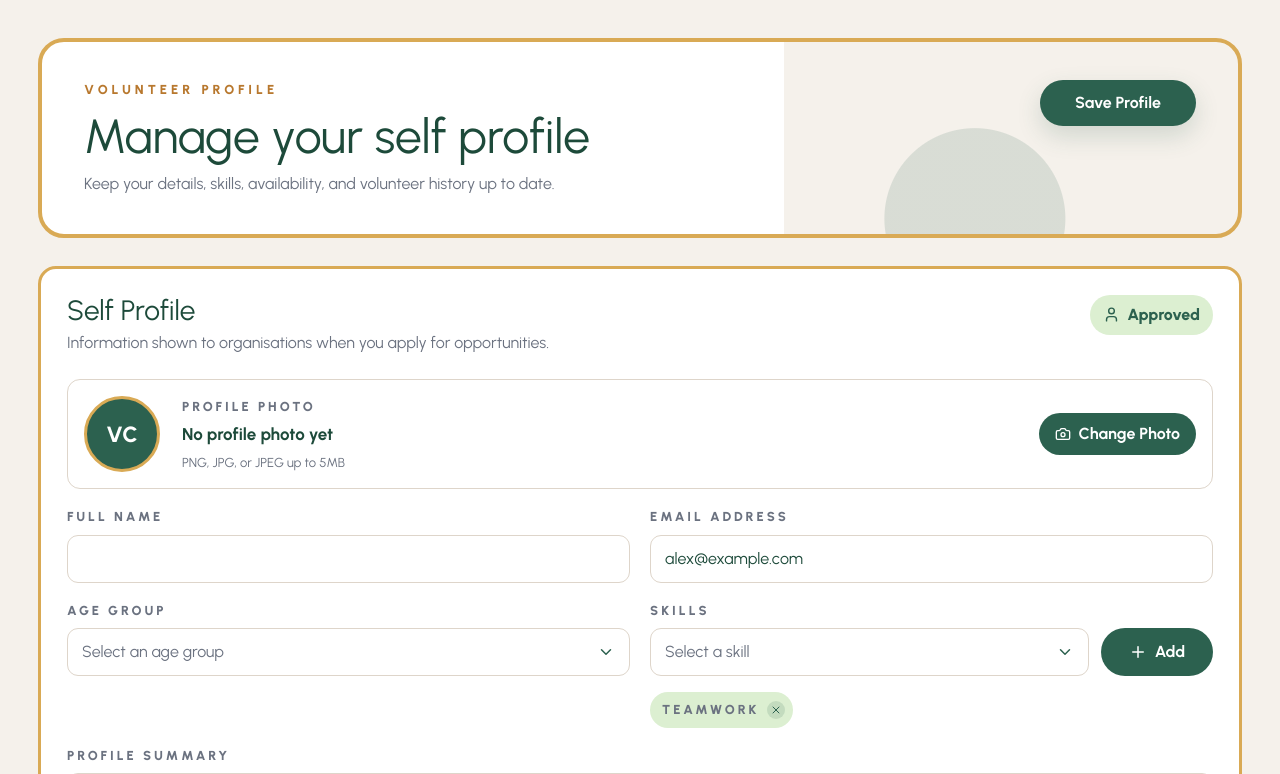
Test: edit volunteer profile UI › validates required name and age group before sending a save request
This screenshot has width=1280, height=774.
Step 1. Click the button "Save Profile" → (1118, 103), box [1040, 80, 1196, 126]
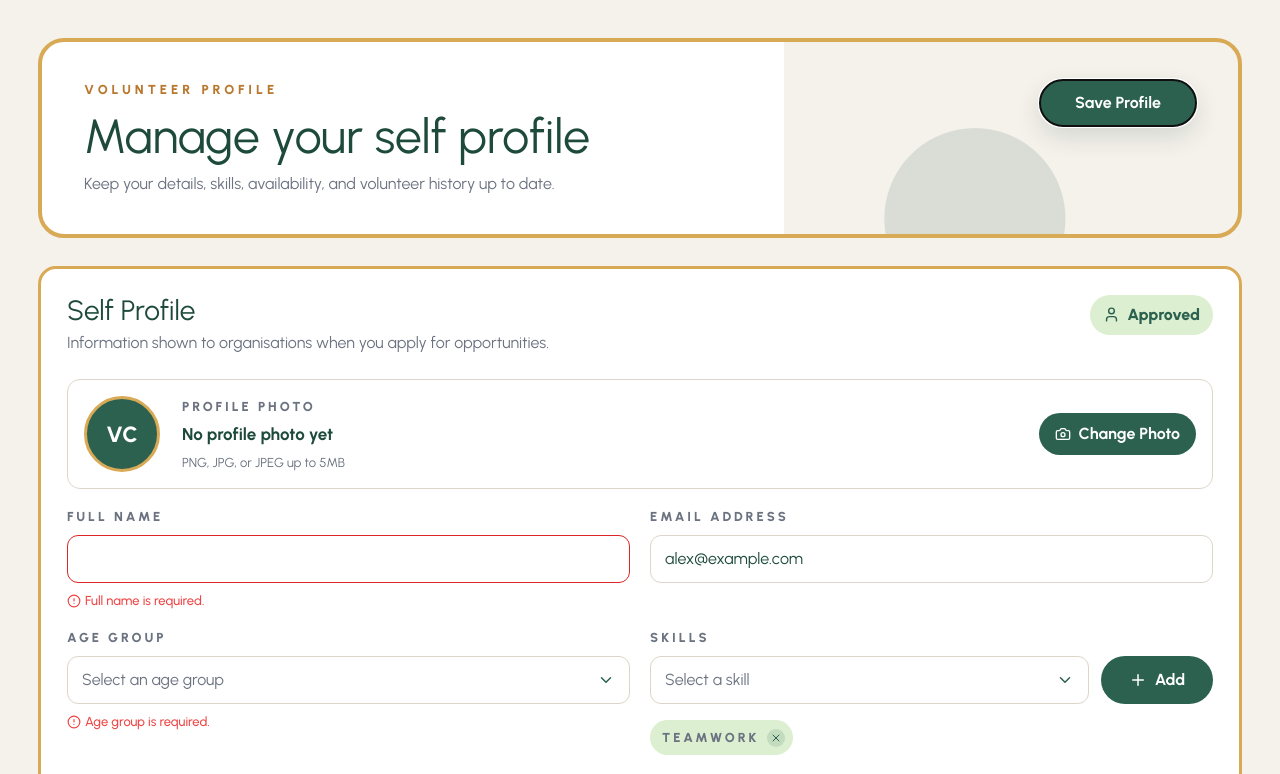
Result: the text "Full name is required." is shown at [67, 593, 204, 608]
Result: the text "Age group is required." is shown at [67, 714, 210, 729]
